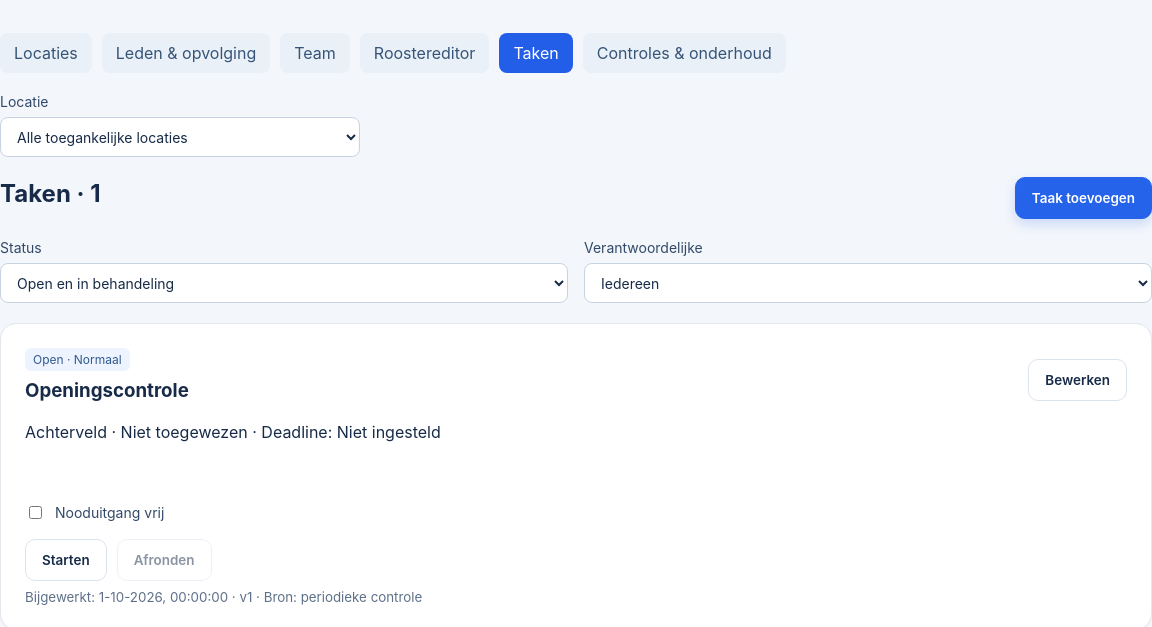
Scenario: laat een controle pas afronden na afvinken en bewaart een versienummer
This screenshot has width=1152, height=627.
Check: the button "Afronden" is disabled, box top-left (117, 539), bottom-right (212, 581)
Click the checkbox labelled "Nooduitgang vrij" at [36, 513], box top-left (29, 506), bottom-right (42, 519)
(page scrolled)
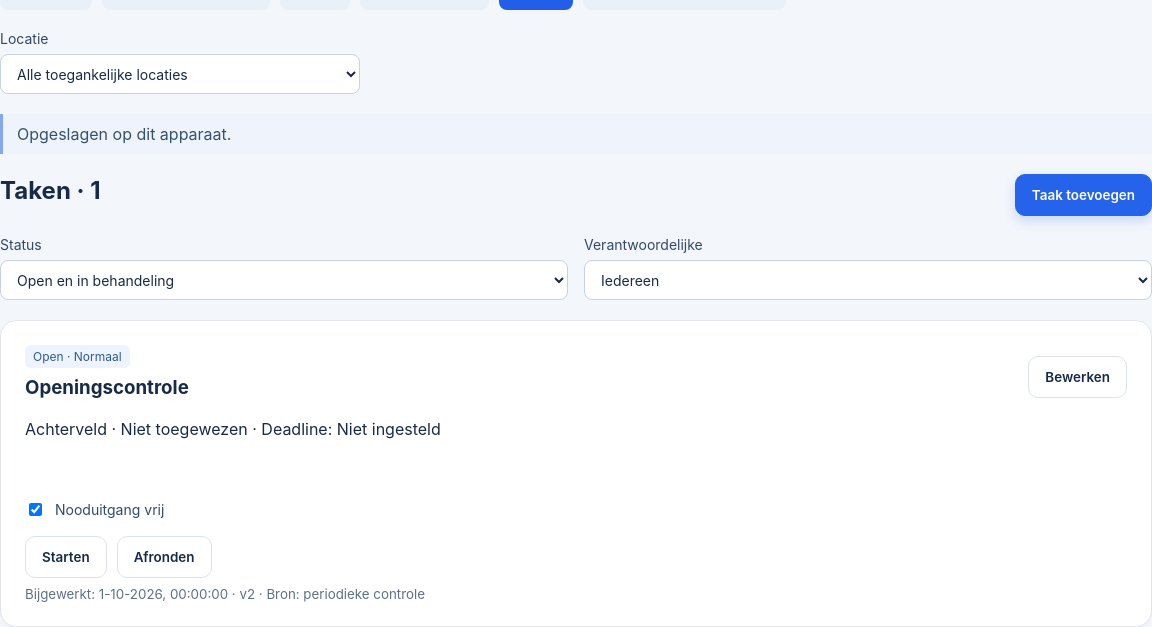
Check: the button "Afronden" is enabled, box top-left (117, 536), bottom-right (212, 578)
